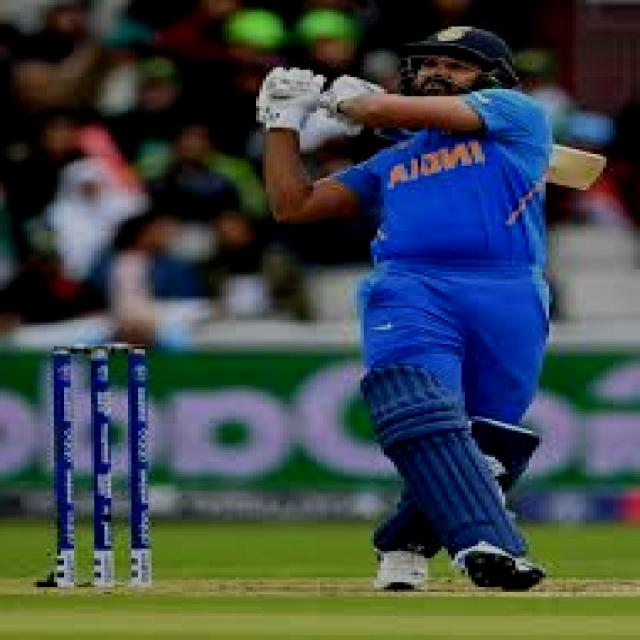toe: (570, 154, 612, 198)
